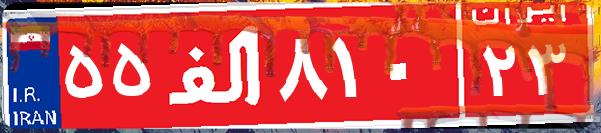0: (385, 28, 445, 110)
1: (330, 28, 385, 110)
2: (475, 38, 525, 113)
3: (525, 38, 570, 115)
5: (57, 26, 110, 107), (110, 28, 158, 105)
8: (273, 28, 330, 110)
الف: (158, 15, 273, 115)
